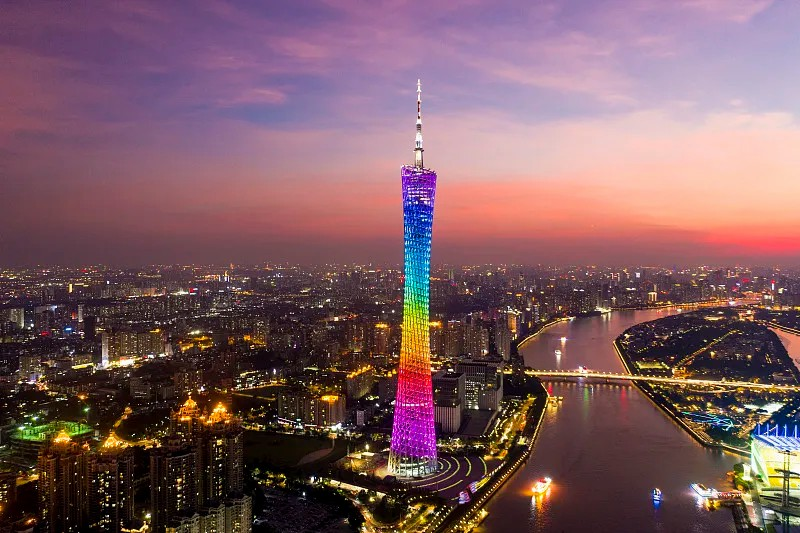Canton: (385, 78, 440, 478)
